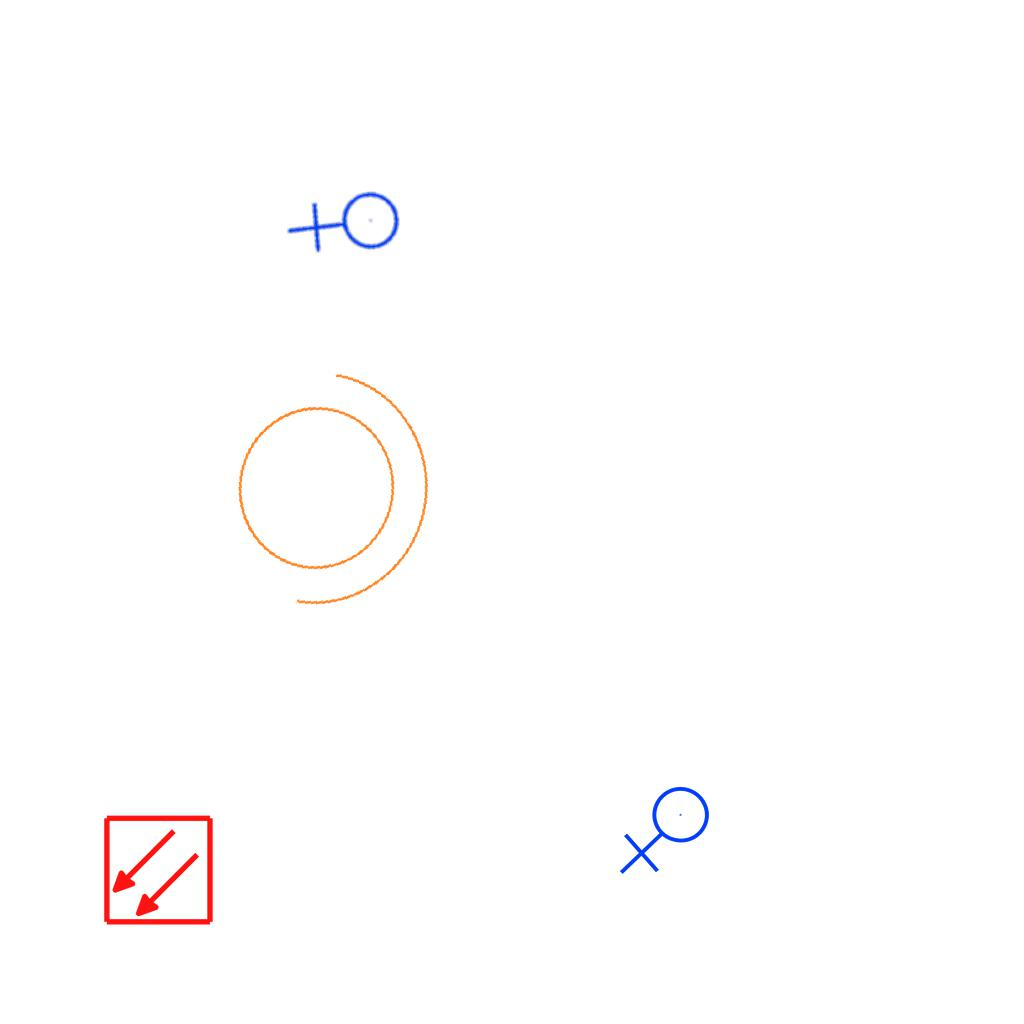Elektroanschluss_allgemein_230V_Geraeteanschlussdose_230V: (282, 159, 419, 295), (619, 785, 718, 879)
RMO_Rauchmelder_optischer: (102, 814, 215, 927)
Scheinwerfer_fuer_Alarmbeleuchtung: (193, 333, 461, 634)
